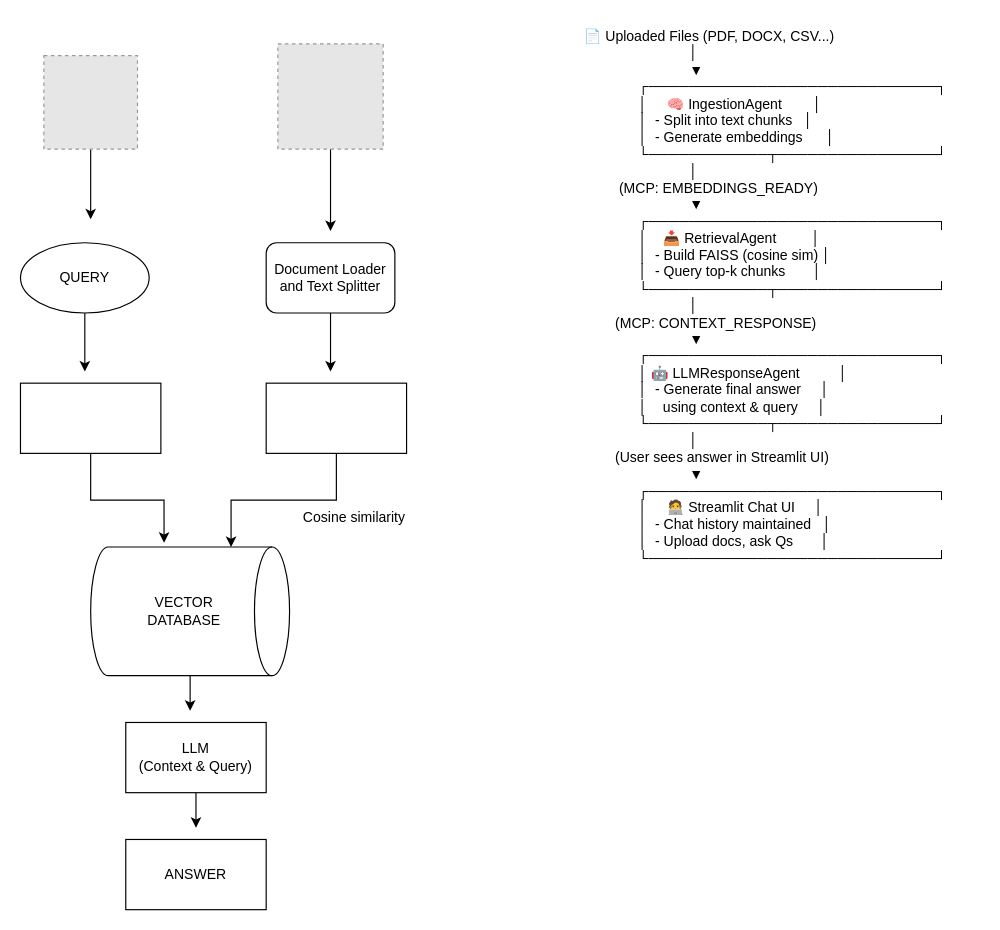
Image size: 1000x930. Some labels were removed from this diagram. Grey dashed boxes stand in for pictures. Each missing label, with the centre of its shape:
EMBEDDING GENERATION MODEL (FAISS): point (336, 417)
QUERY EMBEDDING: point (90, 417)
